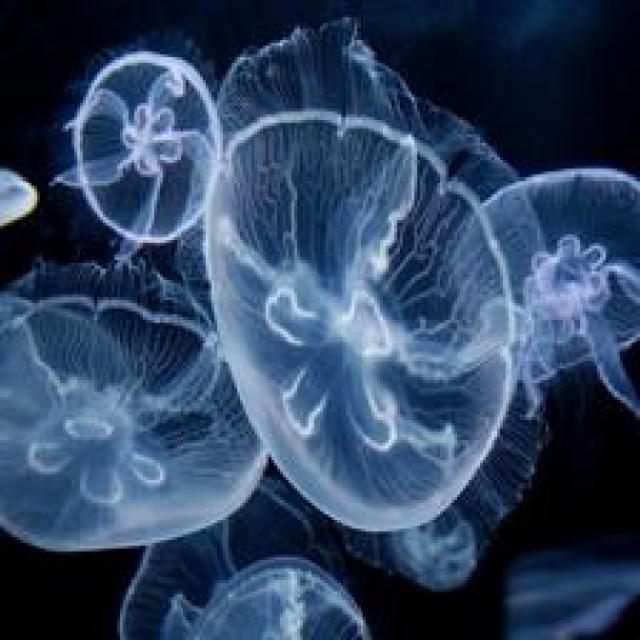Moon-jellyfish: (204, 108, 547, 526), (1, 260, 246, 548)
